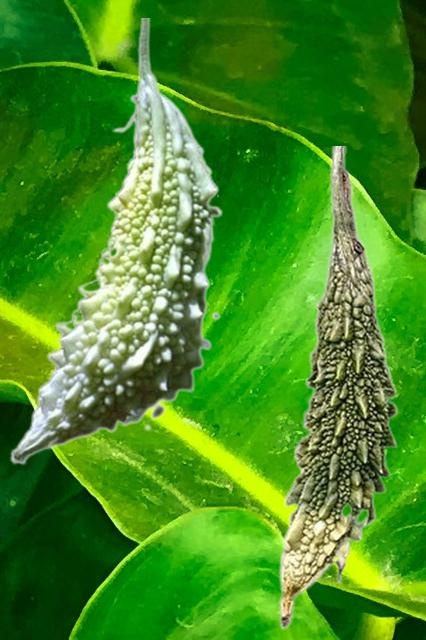ampalaya: (9, 18, 222, 464), (278, 146, 398, 630)
